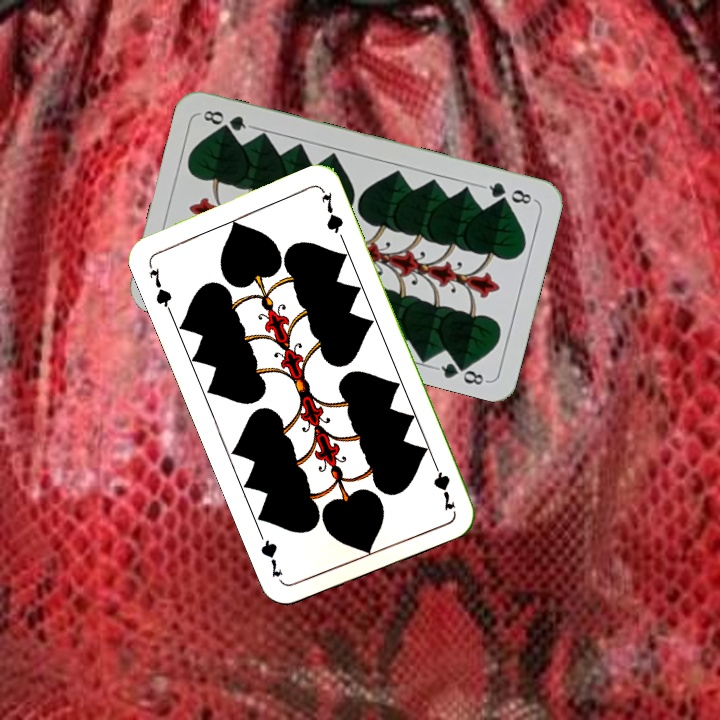G7: (428, 455, 459, 513), (144, 258, 175, 315)
G8: (479, 178, 538, 207)
